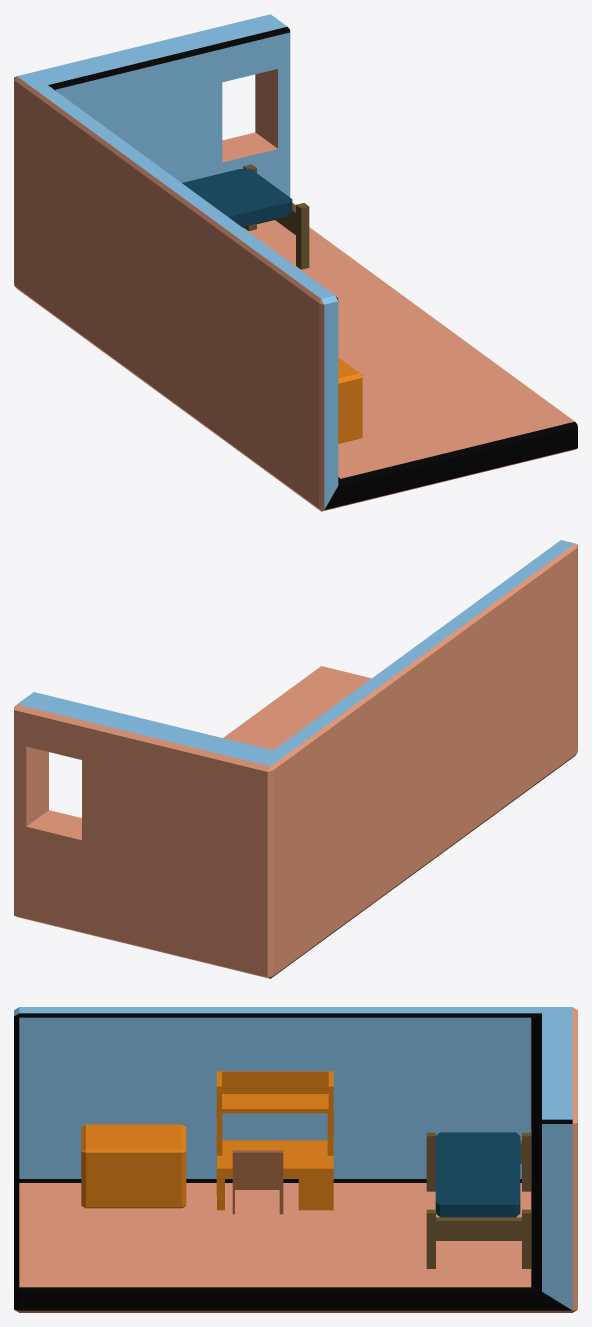
Rendered from full_single.glb.
3 views of the same model, one above another, from view 1: azimuth 30°, elevation 25°; view 2: azimuth 150°, elevation 25°; view 3: azimuth 270°, elevation 25° (orthographic). The views are drawn at different scales.
Visible parts, largest first — view 1: Plane, Mattress, Drawer, Bed Frame.003; view 2: Plane; view 3: Plane, Table, Drawer, Mattress, Bed Frame.003, Chair, Bed Frame.001.
Boxes of the visible parts, x1,y1,x2,y2 form: Plane: (14, 14, 577, 511); Mattress: (182, 168, 292, 227); Drawer: (338, 357, 362, 443); Bed Frame.003: (243, 164, 309, 269); Plane: (14, 540, 577, 978); Plane: (14, 1007, 577, 1312); Table: (216, 1071, 333, 1210); Drawer: (81, 1124, 186, 1208); Mattress: (435, 1132, 520, 1217); Bed Frame.003: (426, 1209, 531, 1268); Chair: (232, 1150, 283, 1214); Bed Frame.001: (426, 1132, 531, 1191).
Size of the model in its own units: 5.16 by 4.06 by 10.73.
